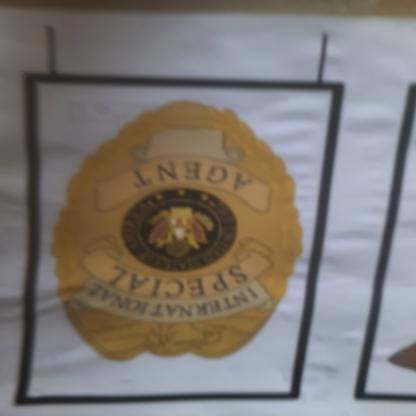G-man: (41, 79, 310, 380)
